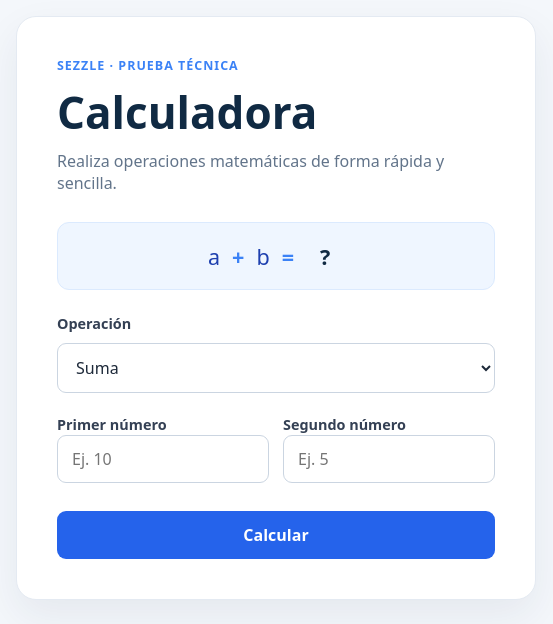
Test: Calculator › after editing Primer número during a request › ignores the previous success response
Type "10" into the field labelled "Primer número" at (163, 459), box [57,435,269,483]
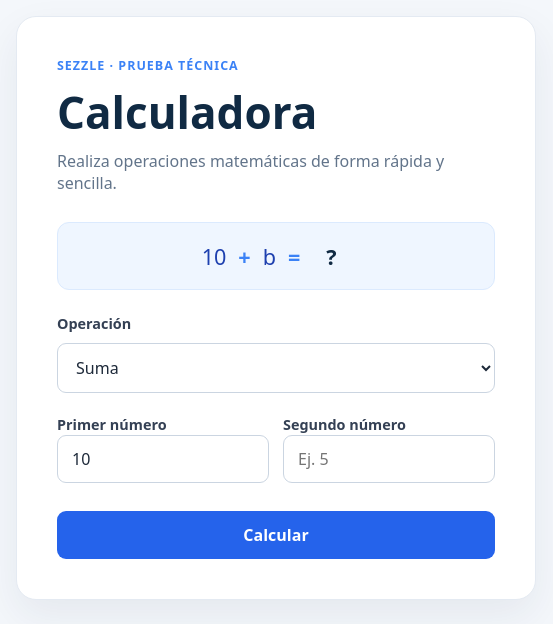
Type "5" into the field labelled "Segundo número" at (389, 459), box [283,435,495,483]
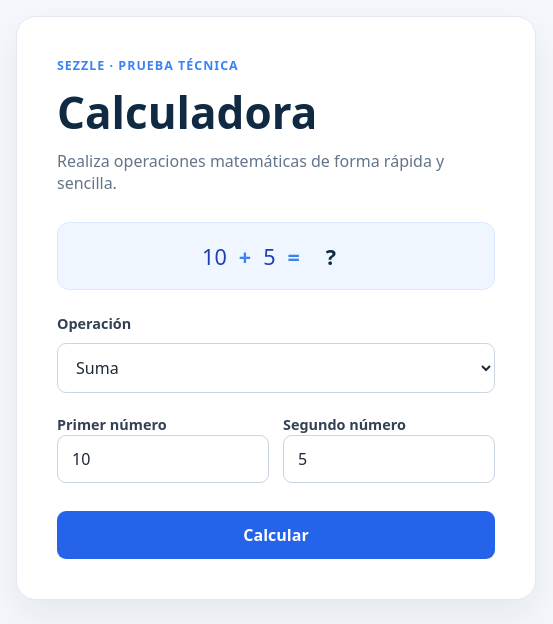
Click the button "Calcular" at (276, 535), box [57,511,495,559]
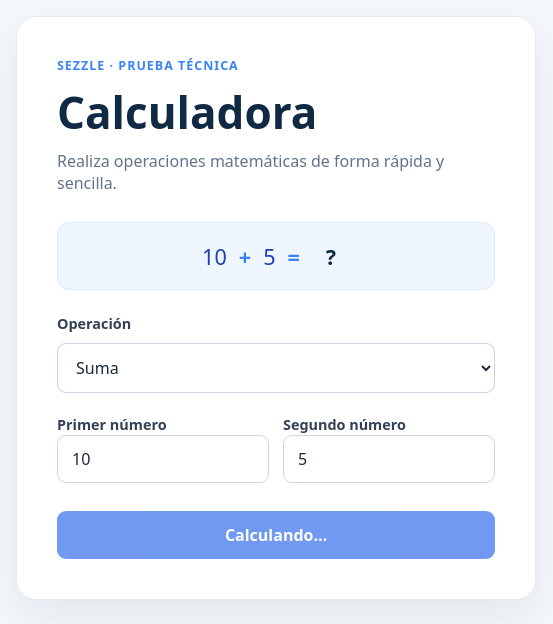
Now the button "Calculando…" is disabled, box [57,511,495,559]
Replace the text in the field labelled "Primer número" with "20" at (163, 459), box [57,435,269,483]
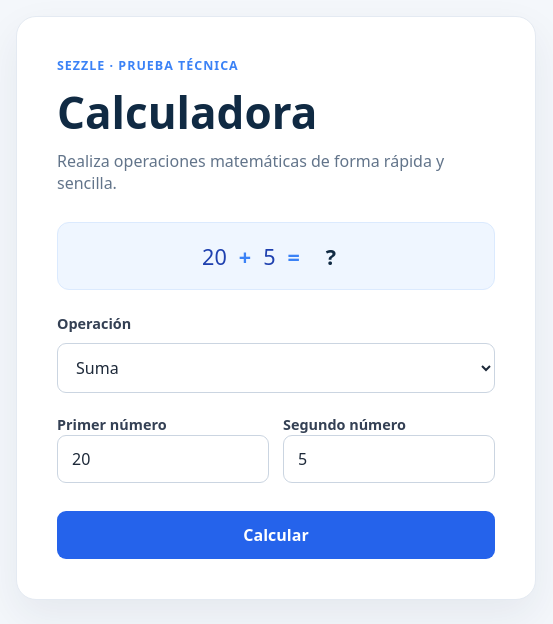
Now the button "Calcular" is enabled, box [57,511,495,559]
